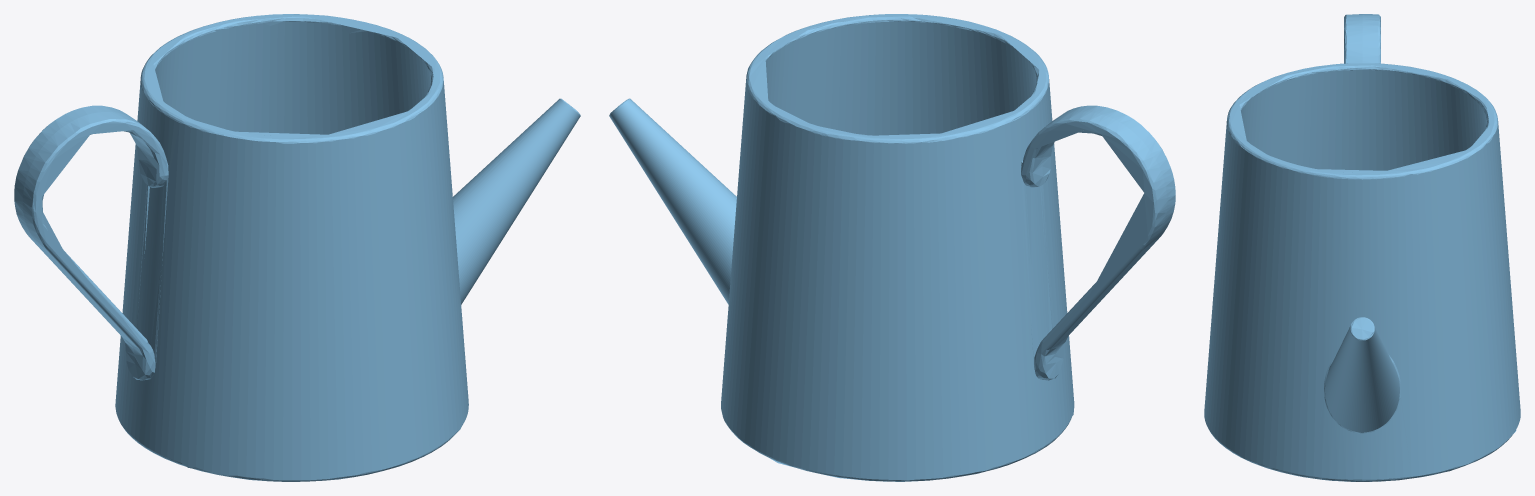
The model's file is WateringCan.dae.
The picture shows the model from 3 angles, left to right: view 1: azimuth 30°, elevation 25°; view 2: azimuth 150°, elevation 25°; view 3: azimuth 270°, elevation 25°; orthographic projection. The views are drawn at different scales.
Parts seen in each view (by area): view 1: Watering_can; view 2: Watering_can; view 3: Watering_can.
Boxes of the visible parts, x1,y1,x2,y2 form: Watering_can: [14, 14, 580, 481]; Watering_can: [609, 14, 1175, 481]; Watering_can: [1204, 14, 1520, 481].
Bounding box in the file's own units: 0.308 × 0.1698 × 0.1823.
